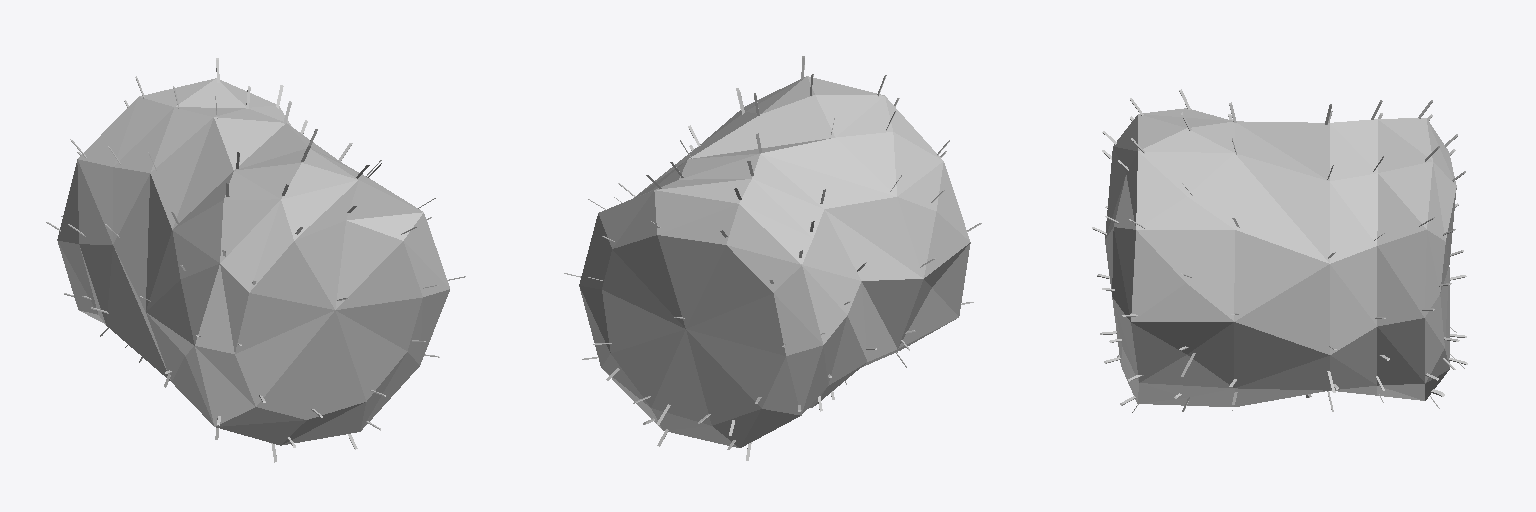
Rendered from Hay_2.obj.
3 views of the same model, side by side, from view 1: azimuth 30°, elevation 25°; view 2: azimuth 150°, elevation 25°; view 3: azimuth 270°, elevation 25° (orthographic).
Parts seen in each view (by area): view 1: Hay_2; view 2: Hay_2; view 3: Hay_2.
Part boxes in pixels (x1,y1,x2,y2): Hay_2: (46, 58, 465, 462); Hay_2: (564, 56, 981, 460); Hay_2: (1092, 89, 1467, 412).
Bounding box in the file's own units: 1.73 × 1.7 × 2.